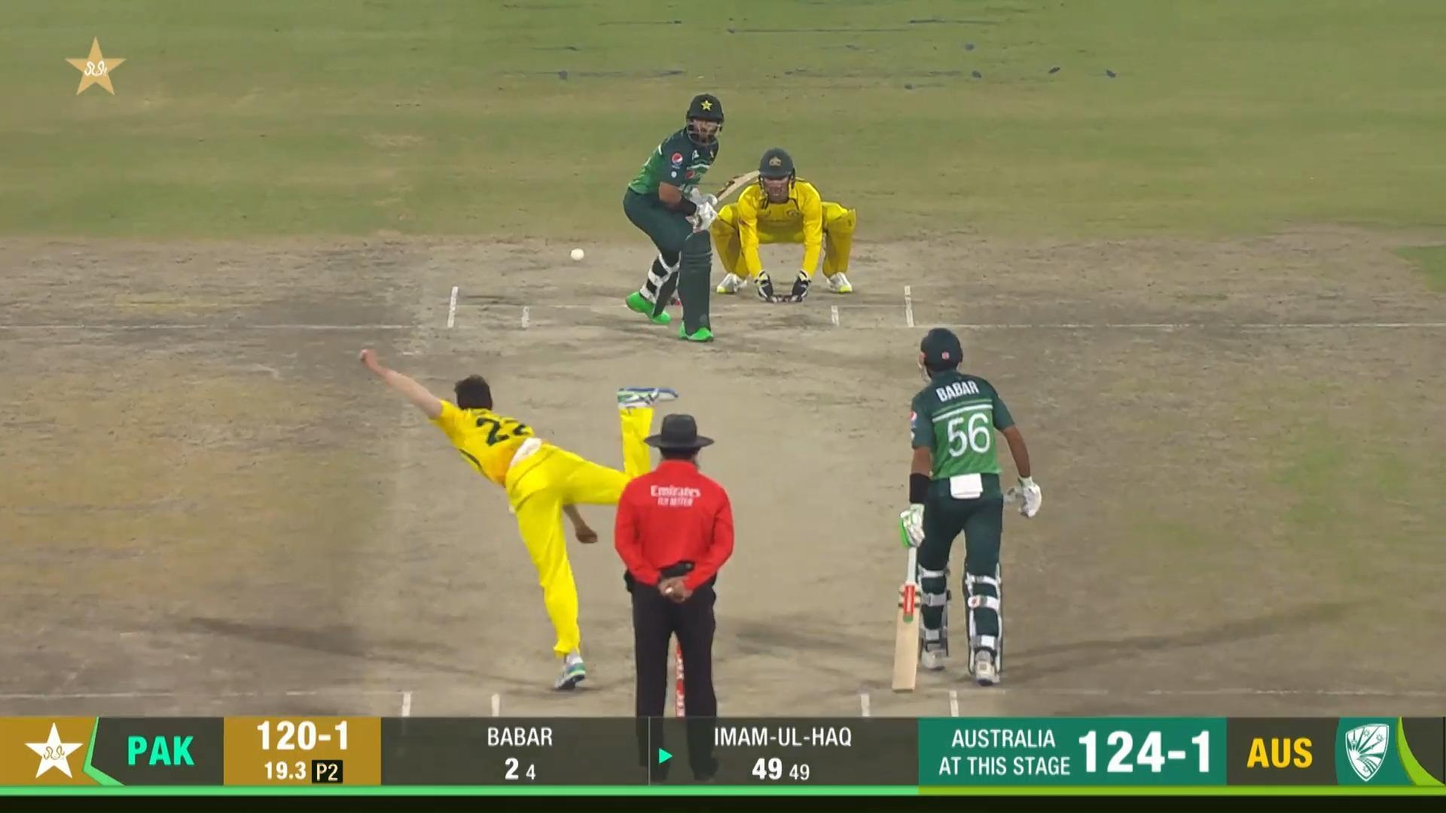BM 1: (623, 93, 766, 344)
BO: (357, 346, 678, 691)
